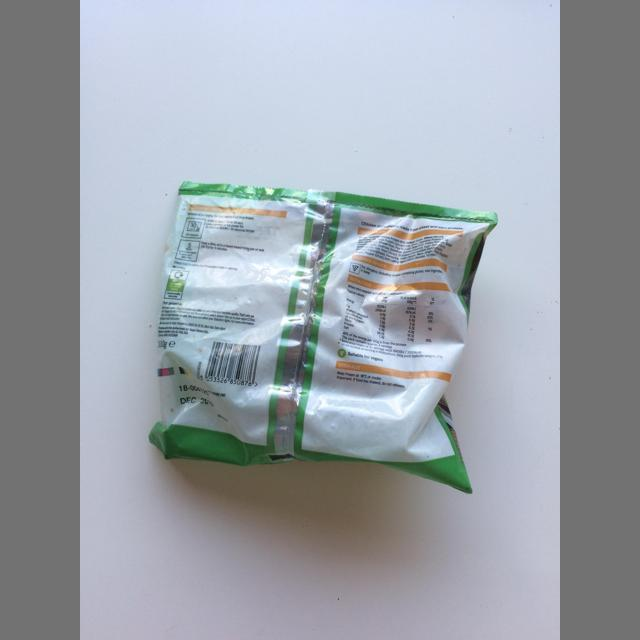litter: (149, 181, 498, 495)
